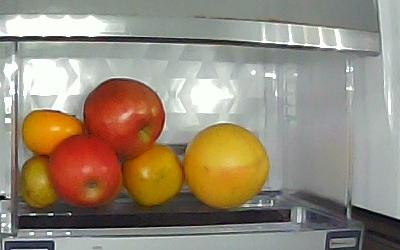apple: (83, 76, 165, 161), (48, 134, 123, 207)
grapefruit: (182, 123, 269, 210)
persimmon: (123, 144, 182, 205), (22, 110, 84, 157)
prune: (21, 155, 61, 207)
